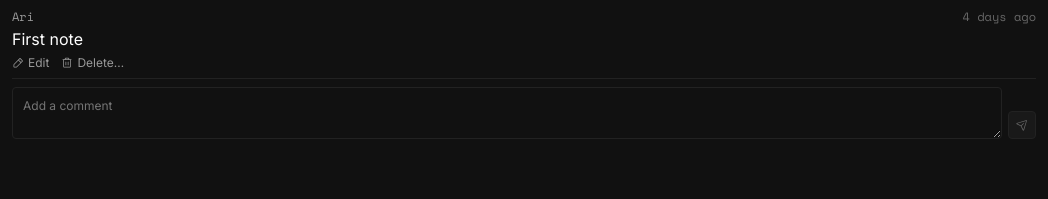
tracker inspector comments section › edits an own comment inline against its stored version
Expected: the text "First note" is shown, [12,29,83,49]
Click the button with aria-label "Edit comment: First note": (31, 62) [12,55,49,70]
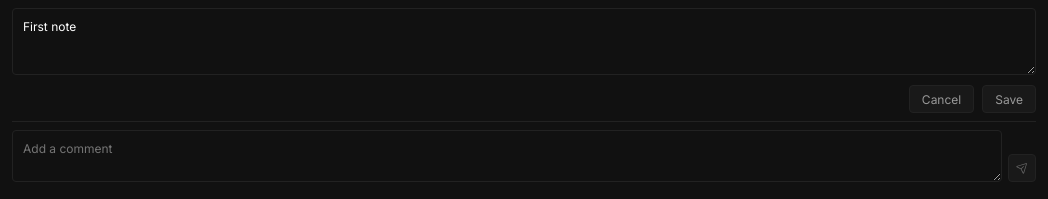
Expected: the text box named "Edit comment" holds "First note"
Replace the text in the text box named "Edit comment" with "Rewritten": (524, 42) [12,8,1036,75]
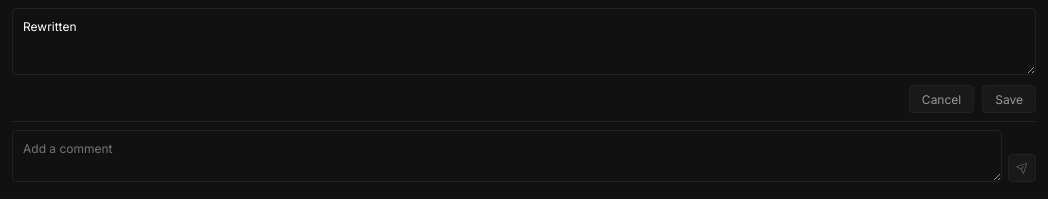
Click the button "Save": (1009, 99) [982,85,1036,113]
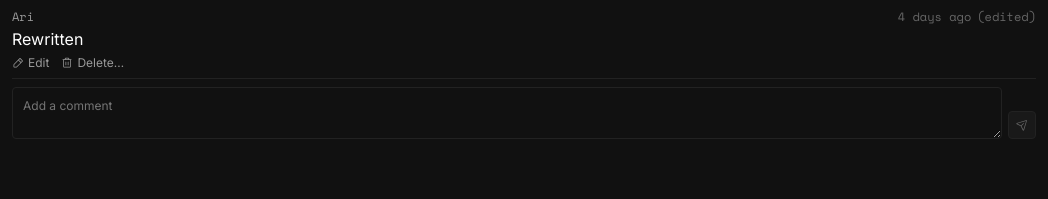
Expected: the text "(edited)" is shown, [977,8,1036,25]
